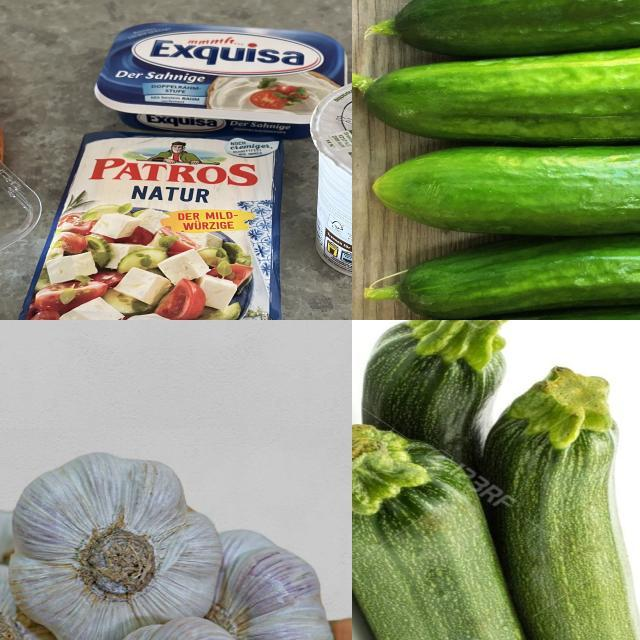carrot: (1, 18, 35, 192)
cucumber: (360, 47, 640, 142), (367, 141, 640, 234), (391, 227, 640, 321), (384, 1, 640, 56)
garlic: (8, 452, 224, 640), (189, 524, 335, 640)
zucchini: (353, 430, 564, 640)
